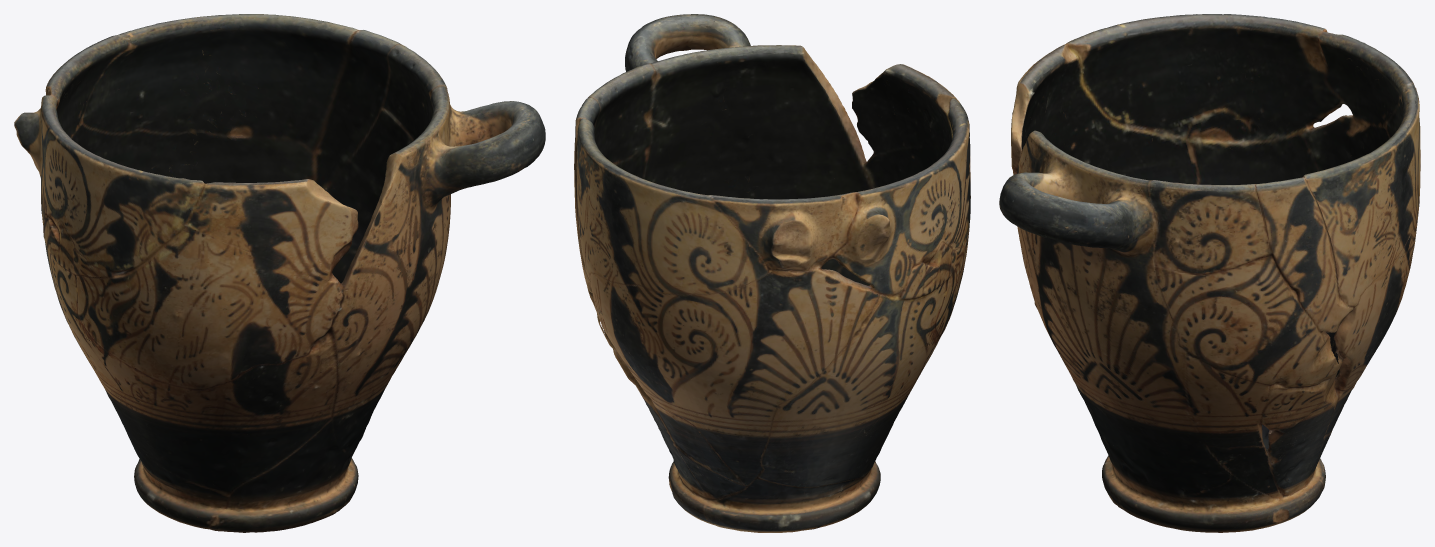
Rendered from skyphos.gltf.
3 renders of one model, left to right at view 1: azimuth 30°, elevation 25°; view 2: azimuth 150°, elevation 25°; view 3: azimuth 270°, elevation 25°, orthographic. The views are drawn at different scales.
Visible parts, largest first — view 1: Group_Global; view 2: Group_Global; view 3: Group_Global.
Boxes of the visible parts, x1=… form: Group_Global: x1=14, y1=14, x2=545, y2=532; Group_Global: x1=574, y1=14, x2=970, y2=532; Group_Global: x1=999, y1=14, x2=1420, y2=532.
Size of the model in its own units: 0.2756 by 0.2578 by 0.2504.
1 material, 1 textured.
